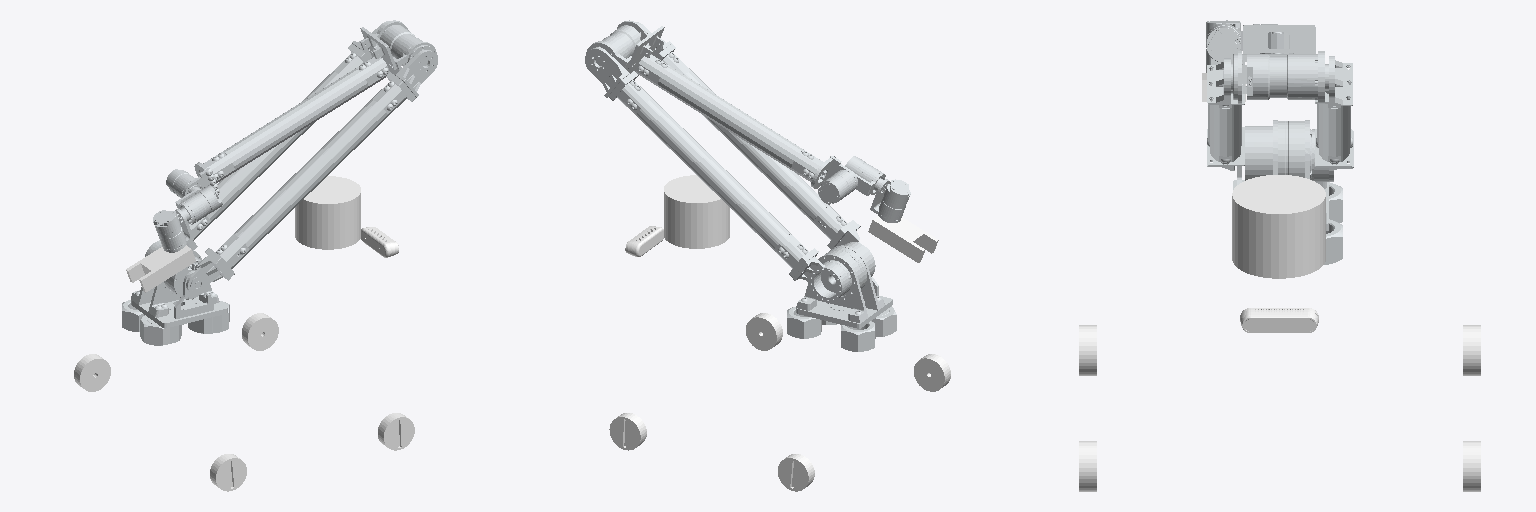
The robot description file, URDF, robot "car_total":
<?xml version="1.0" encoding="utf-8"?>
<!-- This URDF was automatically created by SolidWorks to URDF Exporter! Originally created by Stephen Brawner (brawner@gmail.com) 
     Commit Version: 1.6.0-4-g7f85cfe  Build Version: 1.6.7995.38578
     For more information, please see http://wiki.ros.org/sw_urdf_exporter -->
<robot
  name="car_total">
  <link
    name="base_link">
    <inertial>
      <origin
        xyz="0.0072267287511327 0.000104719885171675 0.0735986679476476"
        rpy="0 0 0" />
      <mass
        value="18.2147755600028" />
      <inertia
        ixx="0.0356811351637089"
        ixy="-3.30703606727026E-06"
        ixz="-1.73140581507929E-05"
        iyy="0.060568796439748"
        iyz="6.66721495900119E-06"
        izz="0.0785360308707043" />
    </inertial>
    <visual>
      <origin
        xyz="0 0 0"
        rpy="0 0 0" />
      <geometry>
        <mesh
          filename="package://car_total/meshes/base_link.STL" />
      </geometry>
      <material
        name="">
        <color
          rgba="0.298039215686275 0.298039215686275 0.298039215686275 1" />
      </material>
    </visual>
    <collision>
      <origin
        xyz="0 0 0"
        rpy="0 0 0" />
      <geometry>
        <mesh
          filename="package://car_total/meshes/base_link.STL" />
      </geometry>
    </collision>
  </link>
  <link
    name="left_ahead_wheel">
    <inertial>
      <origin
        xyz="0 -0.000176599813181244 0"
        rpy="0 0 0" />
      <mass
        value="0.0487751853603894" />
      <inertia
        ixx="1.19431136820125E-05"
        ixy="-6.24893308559522E-20"
        ixz="-1.41367905477624E-08"
        iyy="2.10139464635948E-05"
        iyz="-1.02755228259716E-21"
        izz="1.22459599088019E-05" />
    </inertial>
    <visual>
      <origin
        xyz="0 0 0"
        rpy="0 0 0" />
      <geometry>
        <mesh
          filename="package://car_total/meshes/left_ahead_wheel.STL" />
      </geometry>
      <material
        name="">
        <color
          rgba="1 1 1 1" />
      </material>
    </visual>
    <collision>
      <origin
        xyz="0 0 0"
        rpy="0 0 0" />
      <geometry>
        <mesh
          filename="package://car_total/meshes/left_ahead_wheel.STL" />
      </geometry>
    </collision>
  </link>
  <joint
    name="left_ahead_wheel_joint"
    type="continuous">
    <origin
      xyz="0.155999999999997 0.219000195879134 0"
      rpy="0 0 0" />
    <parent
      link="base_link" />
    <child
      link="left_ahead_wheel" />
    <axis
      xyz="0 -1 0" />
  </joint>
  <link
    name="left_back_wheel">
    <inertial>
      <origin
        xyz="-5.55111512312578E-17 -0.0001765998131813 0"
        rpy="0 0 0" />
      <mass
        value="0.0487751853603894" />
      <inertia
        ixx="1.19453151301021E-05"
        ixy="-6.37807671524902E-20"
        ixz="-2.9354773388473E-08"
        iyy="2.10139464635948E-05"
        iyz="1.07324804301432E-22"
        izz="1.22437584607124E-05" />
    </inertial>
    <visual>
      <origin
        xyz="0 0 0"
        rpy="0 0 0" />
      <geometry>
        <mesh
          filename="package://car_total/meshes/left_back_wheel.STL" />
      </geometry>
      <material
        name="">
        <color
          rgba="1 1 1 1" />
      </material>
    </visual>
    <collision>
      <origin
        xyz="0 0 0"
        rpy="0 0 0" />
      <geometry>
        <mesh
          filename="package://car_total/meshes/left_back_wheel.STL" />
      </geometry>
    </collision>
  </link>
  <joint
    name="left_back_wheel_joint"
    type="continuous">
    <origin
      xyz="-0.156000000000004 0.219000195879131 0"
      rpy="0 0 0" />
    <parent
      link="base_link" />
    <child
      link="left_back_wheel" />
    <axis
      xyz="0 -1 0" />
  </joint>
  <link
    name="right_ahead_wheel">
    <inertial>
      <origin
        xyz="0 0.000176599813181272 1.73472347597681E-18"
        rpy="0 0 0" />
      <mass
        value="0.0487751853603893" />
      <inertia
        ixx="1.19431136820125E-05"
        ixy="6.25653898895604E-20"
        ixz="-1.41367905477636E-08"
        iyy="2.10139464635948E-05"
        iyz="-6.66376836206928E-22"
        izz="1.22459599088019E-05" />
    </inertial>
    <visual>
      <origin
        xyz="0 0 0"
        rpy="0 0 0" />
      <geometry>
        <mesh
          filename="package://car_total/meshes/right_ahead_wheel.STL" />
      </geometry>
      <material
        name="">
        <color
          rgba="1 1 1 1" />
      </material>
    </visual>
    <collision>
      <origin
        xyz="0 0 0"
        rpy="0 0 0" />
      <geometry>
        <mesh
          filename="package://car_total/meshes/right_ahead_wheel.STL" />
      </geometry>
    </collision>
  </link>
  <joint
    name="right_ahead_wheel_joint"
    type="continuous">
    <origin
      xyz="0.155999999999997 -0.219000195879134 0"
      rpy="0 0 0" />
    <parent
      link="base_link" />
    <child
      link="right_ahead_wheel" />
    <axis
      xyz="0 -1 0" />
  </joint>
  <link
    name="right_back_wheel">
    <inertial>
      <origin
        xyz="5.55111512312578E-17 0.0001765998131813 0"
        rpy="0 0 0" />
      <mass
        value="0.0487751853603893" />
      <inertia
        ixx="1.1945315130102E-05"
        ixy="6.30238478872746E-20"
        ixz="-2.93547733884741E-08"
        iyy="2.10139464635948E-05"
        iyz="-2.06191906923241E-21"
        izz="1.22437584607124E-05" />
    </inertial>
    <visual>
      <origin
        xyz="0 0 0"
        rpy="0 0 0" />
      <geometry>
        <mesh
          filename="package://car_total/meshes/right_back_wheel.STL" />
      </geometry>
      <material
        name="">
        <color
          rgba="1 1 1 1" />
      </material>
    </visual>
    <collision>
      <origin
        xyz="0 0 0"
        rpy="0 0 0" />
      <geometry>
        <mesh
          filename="package://car_total/meshes/right_back_wheel.STL" />
      </geometry>
    </collision>
  </link>
  <joint
    name="right_back_wheel_joint"
    type="continuous">
    <origin
      xyz="-0.156000000000004 -0.219000195879132 0"
      rpy="0 0 0" />
    <parent
      link="base_link" />
    <child
      link="right_back_wheel" />
    <axis
      xyz="0 -1 0" />
  </joint>
  <link
    name="left_ahead_arm">
    <inertial>
      <origin
        xyz="-8.51004324856075E-08 -0.00550753511779778 0.166867745732428"
        rpy="0 0 0" />
      <mass
        value="1.58786786548102" />
      <inertia
        ixx="0.0101203073694155"
        ixy="-2.47348248780182E-12"
        ixz="-6.46656692243147E-09"
        iyy="0.0114564870751773"
        iyz="8.66733028934315E-08"
        izz="0.00151495709722874" />
    </inertial>
    <visual>
      <origin
        xyz="0 0 0"
        rpy="0 0 0" />
      <geometry>
        <mesh
          filename="package://car_total/meshes/left_ahead_arm.STL" />
      </geometry>
      <material
        name="">
        <color
          rgba="0.752941176470588 0.752941176470588 0.752941176470588 1" />
      </material>
    </visual>
    <collision>
      <origin
        xyz="0 0 0"
        rpy="0 0 0" />
      <geometry>
        <mesh
          filename="package://car_total/meshes/left_ahead_arm.STL" />
      </geometry>
    </collision>
  </link>
  <joint
    name="left_ahead_arm_joint"
    type="revolute">
    <origin
      xyz="0.2776 0.241 0.0551"
      rpy="0 0 0" />
    <parent
      link="base_link" />
    <child
      link="left_ahead_arm" />
    <axis
      xyz="0 1 0" />
    <limit
      lower="-0.523"
      upper="3.926"
      effort="50"
      velocity="1.57" />
  </joint>
  <link
    name="left_back_arm">
    <inertial>
      <origin
        xyz="-8.51004331448024E-08 -0.00550753511779362 0.166867745732429"
        rpy="0 0 0" />
      <mass
        value="1.58786786548102" />
      <inertia
        ixx="0.0101203073694155"
        ixy="-2.47348281271855E-12"
        ixz="-6.46656686143657E-09"
        iyy="0.0114564870751773"
        iyz="8.66733026510441E-08"
        izz="0.00151495709722875" />
    </inertial>
    <visual>
      <origin
        xyz="0 0 0"
        rpy="0 0 0" />
      <geometry>
        <mesh
          filename="package://car_total/meshes/left_back_arm.STL" />
      </geometry>
      <material
        name="">
        <color
          rgba="0.752941176470588 0.752941176470588 0.752941176470588 1" />
      </material>
    </visual>
    <collision>
      <origin
        xyz="0 0 0"
        rpy="0 0 0" />
      <geometry>
        <mesh
          filename="package://car_total/meshes/left_back_arm.STL" />
      </geometry>
    </collision>
  </link>
  <joint
    name="left_back_arm_joint"
    type="revolute">
    <origin
      xyz="-0.2776 0.241 0.0551"
      rpy="0 0 0" />
    <parent
      link="base_link" />
    <child
      link="left_back_arm" />
    <axis
      xyz="0 1 0" />
    <limit
      lower="-3.926"
      upper="0.523"
      effort="50"
      velocity="1.57" />
  </joint>
  <link
    name="right_ahead_arm">
    <inertial>
      <origin
        xyz="8.51007760926947E-08 0.00550753511778909 0.166867745732428"
        rpy="0 0 0" />
      <mass
        value="1.58786786548102" />
      <inertia
        ixx="0.0101203073694156"
        ixy="-2.4734834015178E-12"
        ixz="6.46654918725069E-09"
        iyy="0.0114564870751773"
        iyz="-8.66733026516839E-08"
        izz="0.00151495709722884" />
    </inertial>
    <visual>
      <origin
        xyz="0 0 0"
        rpy="0 0 0" />
      <geometry>
        <mesh
          filename="package://car_total/meshes/right_ahead_arm.STL" />
      </geometry>
      <material
        name="">
        <color
          rgba="0.752941176470588 0.752941176470588 0.752941176470588 1" />
      </material>
    </visual>
    <collision>
      <origin
        xyz="0 0 0"
        rpy="0 0 0" />
      <geometry>
        <mesh
          filename="package://car_total/meshes/right_ahead_arm.STL" />
      </geometry>
    </collision>
  </link>
  <joint
    name="right_ahead_arm_joint"
    type="revolute">
    <origin
      xyz="0.2776 -0.241 0.0551"
      rpy="0 0 0" />
    <parent
      link="base_link" />
    <child
      link="right_ahead_arm" />
    <axis
      xyz="0 1 0" />
    <limit
      lower="-0.523"
      upper="3.926"
      effort="50"
      velocity="1.57" />
  </joint>
  <link
    name="right_back_arm">
    <inertial>
      <origin
        xyz="8.5100777647007E-08 0.0055075351177892 0.166867745732427"
        rpy="0 0 0" />
      <mass
        value="1.58786786548102" />
      <inertia
        ixx="0.0101203073694157"
        ixy="-2.47348333942772E-12"
        ixz="6.46654912680057E-09"
        iyy="0.0114564870751773"
        iyz="-8.66733026512871E-08"
        izz="0.0015149570972289" />
    </inertial>
    <visual>
      <origin
        xyz="0 0 0"
        rpy="0 0 0" />
      <geometry>
        <mesh
          filename="package://car_total/meshes/right_back_arm.STL" />
      </geometry>
      <material
        name="">
        <color
          rgba="0.752941176470588 0.752941176470588 0.752941176470588 1" />
      </material>
    </visual>
    <collision>
      <origin
        xyz="0 0 0"
        rpy="0 0 0" />
      <geometry>
        <mesh
          filename="package://car_total/meshes/right_back_arm.STL" />
      </geometry>
    </collision>
  </link>
  <joint
    name="right_back_arm_joint"
    type="revolute">
    <origin
      xyz="-0.2776 -0.241 0.0551"
      rpy="0 0 0" />
    <parent
      link="base_link" />
    <child
      link="right_back_arm" />
    <axis
      xyz="0 1 0" />
    <limit
      lower="-3.926"
      upper="0.523"
      effort="50"
      velocity="1.57" />
  </joint>
  <link
    name="big_course_part">
    <inertial>
      <origin
        xyz="1.74756242143914E-07 0.000840655594496878 -0.000626644403587368"
        rpy="0 0 0" />
      <mass
        value="4.058247002138" />
      <inertia
        ixx="0.00215393279764294"
        ixy="7.58591199427514E-08"
        ixz="-3.93372022303762E-08"
        iyy="0.00241219360465986"
        iyz="2.17404141773737E-07"
        izz="0.00317731381306234" />
    </inertial>
    <visual>
      <origin
        xyz="0 0 0"
        rpy="0 0 0" />
      <geometry>
        <mesh
          filename="package://car_total/meshes/big_course_part.STL" />
      </geometry>
      <material
        name="">
        <color
          rgba="0.898039215686275 0.917647058823529 0.929411764705882 1" />
      </material>
    </visual>
    <collision>
      <origin
        xyz="0 0 0"
        rpy="0 0 0" />
      <geometry>
        <mesh
          filename="package://car_total/meshes/big_course_part.STL" />
      </geometry>
    </collision>
  </link>
  <joint
    name="big_course_joint"
    type="revolute">
    <origin
      xyz="-0.12025 0.0010002 0.19985"
      rpy="0 0 0" />
    <parent
      link="base_link" />
    <child
      link="big_course_part" />
    <axis
      xyz="0 0 1" />
    <limit
      lower="-1.57"
      upper="1.57"
      effort="66"
      velocity="1.57" />
  </joint>
  <link
    name="big_pitch_part">
    <inertial>
      <origin
        xyz="0.223602368000298 0.00351787542231884 0.157408489138648"
        rpy="0 0 0" />
      <mass
        value="1.11922785774065" />
      <inertia
        ixx="0.00206915287958648"
        ixy="1.66867634828652E-07"
        ixz="-0.00253507622801385"
        iyy="0.00572908953033018"
        iyz="2.83510380604844E-07"
        izz="0.00391352949035926" />
    </inertial>
    <visual>
      <origin
        xyz="0 0 0"
        rpy="0 0 0" />
      <geometry>
        <mesh
          filename="package://car_total/meshes/big_pitch_part.STL" />
      </geometry>
      <material
        name="">
        <color
          rgba="0.898039215686275 0.917647058823529 0.929411764705882 1" />
      </material>
    </visual>
    <collision>
      <origin
        xyz="0 0 0"
        rpy="0 0 0" />
      <geometry>
        <mesh
          filename="package://car_total/meshes/big_pitch_part.STL" />
      </geometry>
    </collision>
  </link>
  <joint
    name="big_pitch_joint"
    type="revolute">
    <origin
      xyz="0 -0.00320000000000144 0.0614876897975586"
      rpy="0 0 0" />
    <parent
      link="big_course_part" />
    <child
      link="big_pitch_part" />
    <axis
      xyz="0 1 0" />
    <limit
      lower="-2.531"
      upper="0"
      effort="66"
      velocity="1.57" />
  </joint>
  <link
    name="small_pitch_part">
    <inertial>
      <origin
        xyz="-0.151760367500101 -0.00702848793080098 -0.0547270044732647"
        rpy="0 0 0" />
      <mass
        value="1.16129887078162" />
      <inertia
        ixx="0.000918508848044831"
        ixy="-4.47630851648167E-06"
        ixz="-0.000572476456890627"
        iyy="0.00212433704129479"
        iyz="-1.44540267941281E-06"
        izz="0.00228319496367273" />
    </inertial>
    <visual>
      <origin
        xyz="0 0 0"
        rpy="0 0 0" />
      <geometry>
        <mesh
          filename="package://car_total/meshes/small_pitch_part.STL" />
      </geometry>
      <material
        name="">
        <color
          rgba="0.898039215686275 0.917647058823529 0.929411764705882 1" />
      </material>
    </visual>
    <collision>
      <origin
        xyz="0 0 0"
        rpy="0 0 0" />
      <geometry>
        <mesh
          filename="package://car_total/meshes/small_pitch_part.STL" />
      </geometry>
    </collision>
  </link>
  <joint
    name="small_pitch_joint"
    type="revolute">
    <origin
      xyz="0.42211 0.0098 0.29556"
      rpy="0 0 0" />
    <parent
      link="big_pitch_part" />
    <child
      link="small_pitch_part" />
    <axis
      xyz="0 1 0" />
    <limit
      lower="-3.14"
      upper="3.14"
      effort="18"
      velocity="1.57" />
  </joint>
  <link
    name="hands_pitch_part">
    <inertial>
      <origin
        xyz="-0.0104504695371929 -0.0245556138833306 -0.00380373964260527"
        rpy="0 0 0" />
      <mass
        value="0.198490694575794" />
      <inertia
        ixx="4.28672080428007E-05"
        ixy="-1.98605745647437E-06"
        ixz="-8.74224750649097E-06"
        iyy="6.48873353986136E-05"
        iyz="-1.14209401186416E-06"
        izz="6.37056808544144E-05" />
    </inertial>
    <visual>
      <origin
        xyz="0 0 0"
        rpy="0 0 0" />
      <geometry>
        <mesh
          filename="package://car_total/meshes/hands_pitch_part.STL" />
      </geometry>
      <material
        name="">
        <color
          rgba="0.898039215686275 0.917647058823529 0.929411764705882 1" />
      </material>
    </visual>
    <collision>
      <origin
        xyz="0 0 0"
        rpy="0 0 0" />
      <geometry>
        <mesh
          filename="package://car_total/meshes/hands_pitch_part.STL" />
      </geometry>
    </collision>
  </link>
  <joint
    name="hands_pitch_joint"
    type="revolute">
    <origin
      xyz="-0.40971 -0.0451 -0.14912"
      rpy="0 0 0" />
    <parent
      link="small_pitch_part" />
    <child
      link="hands_pitch_part" />
    <axis
      xyz="0 1 0" />
    <limit
      lower="-1.57"
      upper="1.57"
      effort="6"
      velocity="1.57" />
  </joint>
  <link
    name="hands_roll_part">
    <inertial>
      <origin
        xyz="-0.0184219700917893 -7.25603639083194E-08 -0.0186529175454785"
        rpy="0 0 0" />
      <mass
        value="0.206028609980917" />
      <inertia
        ixx="6.76301152596878E-05"
        ixy="3.71700787949823E-07"
        ixz="6.7746262152741E-06"
        iyy="7.03217071271944E-05"
        iyz="1.35721638011442E-07"
        izz="4.25774678272544E-05" />
    </inertial>
    <visual>
      <origin
        xyz="0 0 0"
        rpy="0 0 0" />
      <geometry>
        <mesh
          filename="package://car_total/meshes/hands_roll_part.STL" />
      </geometry>
      <material
        name="">
        <color
          rgba="0.898039215686275 0.917647058823529 0.929411764705882 1" />
      </material>
    </visual>
    <collision>
      <origin
        xyz="0 0 0"
        rpy="0 0 0" />
      <geometry>
        <mesh
          filename="package://car_total/meshes/hands_roll_part.STL" />
      </geometry>
    </collision>
  </link>
  <joint
    name="hands_roll_joint"
    type="revolute">
    <origin
      xyz="-0.046515 -0.0265 -0.01693"
      rpy="0 0 0" />
    <parent
      link="hands_pitch_part" />
    <child
      link="hands_roll_part" />
    <axis
      xyz="0.93969 0 0.34202" />
    <limit
      lower="-2.356"
      upper="2.356"
      effort="6"
      velocity="1.57" />
  </joint>
  <link
    name="handshands_course_part">
    <inertial>
      <origin
        xyz="-0.0265518945654351 -7.45931094670027E-16 -0.00966409928516149"
        rpy="0 0 0" />
      <mass
        value="0.100681278037507" />
      <inertia
        ixx="3.6285533122064E-05"
        ixy="2.45657466640692E-18"
        ixz="-1.873867431146E-05"
        iyy="6.87920373492824E-05"
        iyz="1.49586441413461E-18"
        izz="8.09492979845232E-05" />
    </inertial>
    <visual>
      <origin
        xyz="0 0 0"
        rpy="0 0 0" />
      <geometry>
        <mesh
          filename="package://car_total/meshes/handshands_course_part.STL" />
      </geometry>
      <material
        name="">
        <color
          rgba="1 1 1 1" />
      </material>
    </visual>
    <collision>
      <origin
        xyz="0 0 0"
        rpy="0 0 0" />
      <geometry>
        <mesh
          filename="package://car_total/meshes/handshands_course_part.STL" />
      </geometry>
    </collision>
  </link>
  <joint
    name="hands_course_joint"
    type="revolute">
    <origin
      xyz="-0.0045517 0 -0.064975"
      rpy="0 0 0" />
    <parent
      link="hands_roll_part" />
    <child
      link="handshands_course_part" />
    <axis
      xyz="0.34202 0 -0.93969" />
    <limit
      lower="-1.57"
      upper="1.57"
      effort="6"
      velocity="1.57" />
  </joint>
  <link
    name="lidar">
    <inertial>
      <origin
        xyz="-1.62370117351429E-15 3.33066907387547E-16 -4.44089209850063E-16"
        rpy="0 0 0" />
      <mass
        value="0.742920987579563" />
      <inertia
        ixx="0.000937798449134027"
        ixy="1.03077101557214E-34"
        ixz="4.61708918612271E-19"
        iyy="0.000937798449134027"
        iyz="2.78475796235466E-20"
        izz="0.0010632127983498" />
    </inertial>
    <visual>
      <origin
        xyz="0 0 0"
        rpy="0 0 0" />
      <geometry>
        <mesh
          filename="package://car_total/meshes/lidar.STL" />
      </geometry>
      <material
        name="">
        <color
          rgba="1 1 1 1" />
      </material>
    </visual>
    <collision>
      <origin
        xyz="0 0 0"
        rpy="0 0 0" />
      <geometry>
        <mesh
          filename="package://car_total/meshes/lidar.STL" />
      </geometry>
    </collision>
  </link>
  <joint
    name="lidar_joint"
    type="fixed">
    <origin
      xyz="0.1555 -0.0010002 0.3007"
      rpy="0 0 0" />
    <parent
      link="base_link" />
    <child
      link="lidar" />
    <axis
      xyz="0 0 0" />
  </joint>
  <link
    name="camera">
    <inertial>
      <origin
        xyz="-0.00422507049806128 0.00323775103650949 -0.00209736042516043"
        rpy="0 0 0" />
      <mass
        value="0.0491654266514405" />
      <inertia
        ixx="2.7939284365415E-05"
        ixy="-4.34509658882138E-07"
        ixz="7.70024903303845E-09"
        iyy="3.41762421577895E-06"
        iyz="2.15842945495298E-09"
        izz="2.71851885152033E-05" />
    </inertial>
    <visual>
      <origin
        xyz="0 0 0"
        rpy="0 0 0" />
      <geometry>
        <mesh
          filename="package://car_total/meshes/camera.STL" />
      </geometry>
      <material
        name="">
        <color
          rgba="1 1 1 1" />
      </material>
    </visual>
    <collision>
      <origin
        xyz="0 0 0"
        rpy="0 0 0" />
      <geometry>
        <mesh
          filename="package://car_total/meshes/camera.STL" />
      </geometry>
    </collision>
  </link>
  <joint
    name="camera_joint"
    type="fixed">
    <origin
      xyz="0.254895203624053 -0.00376119017118451 0.228826235475407"
      rpy="0 0 0" />
    <parent
      link="base_link" />
    <child
      link="camera" />
    <axis
      xyz="0 0 0" />
  </joint>
</robot>

--- Render facts (derived) ---
3 views of the same robot in one strip: view 1: azimuth 30°, elevation 25°; view 2: azimuth 150°, elevation 25°; view 3: azimuth 270°, elevation 25° (orthographic).
Robot: car_total — 17 links, 16 joints (10 revolute, 4 continuous, 2 fixed); root link base_link; default pose: every joint at zero.
Visible links, largest first — view 1: big_pitch_part, small_pitch_part, big_course_part, lidar, handshands_course_part, hands_roll_part, left_ahead_wheel, left_back_wheel, right_back_wheel, hands_pitch_part, right_ahead_wheel, camera; view 2: big_pitch_part, small_pitch_part, big_course_part, lidar, handshands_course_part, hands_roll_part, right_ahead_wheel, right_back_wheel, left_ahead_wheel, left_back_wheel, hands_pitch_part, camera; view 3: lidar, big_pitch_part, small_pitch_part, big_course_part, camera, hands_pitch_part, left_ahead_wheel, left_back_wheel, right_ahead_wheel, right_back_wheel.
Link boxes in pixels (bbox=[...]): big_pitch_part: bbox=[145, 21, 437, 293]; small_pitch_part: bbox=[166, 20, 437, 197]; big_course_part: bbox=[122, 242, 229, 345]; lidar: bbox=[295, 176, 360, 249]; handshands_course_part: bbox=[126, 245, 195, 292]; hands_roll_part: bbox=[153, 208, 193, 252]; left_ahead_wheel: bbox=[242, 313, 278, 350]; left_back_wheel: bbox=[74, 354, 110, 391]; right_back_wheel: bbox=[210, 454, 246, 491]; hands_pitch_part: bbox=[175, 185, 222, 224]; right_ahead_wheel: bbox=[378, 413, 414, 450]; camera: bbox=[361, 227, 398, 257]; big_pitch_part: bbox=[585, 22, 860, 301]; small_pitch_part: bbox=[586, 20, 857, 204]; big_course_part: bbox=[787, 242, 896, 351]; lidar: bbox=[664, 175, 729, 248]; handshands_course_part: bbox=[868, 216, 938, 262]; hands_roll_part: bbox=[870, 179, 910, 222]; right_ahead_wheel: bbox=[746, 313, 782, 350]; right_back_wheel: bbox=[914, 354, 950, 391]; left_ahead_wheel: bbox=[609, 413, 646, 450]; left_back_wheel: bbox=[778, 454, 814, 491]; hands_pitch_part: bbox=[845, 156, 885, 195]; camera: bbox=[625, 226, 663, 256]; lidar: bbox=[1232, 175, 1325, 278]; big_pitch_part: bbox=[1207, 54, 1353, 181]; small_pitch_part: bbox=[1238, 24, 1324, 103]; big_course_part: bbox=[1233, 120, 1342, 264]; camera: bbox=[1240, 308, 1318, 332]; hands_pitch_part: bbox=[1206, 23, 1242, 62]; left_ahead_wheel: bbox=[1463, 441, 1480, 491]; left_back_wheel: bbox=[1463, 325, 1480, 375]; right_ahead_wheel: bbox=[1079, 441, 1096, 491]; right_back_wheel: bbox=[1079, 325, 1096, 375].
Bounding box of the posed robot: 0.5749 × 0.458 × 0.6237 m (x, y, z).
Meshes: 17 distinct files referenced, 12 mesh visuals loaded (12 binary STL); not drawn: 5 (reference not matched to a file when rendering).
